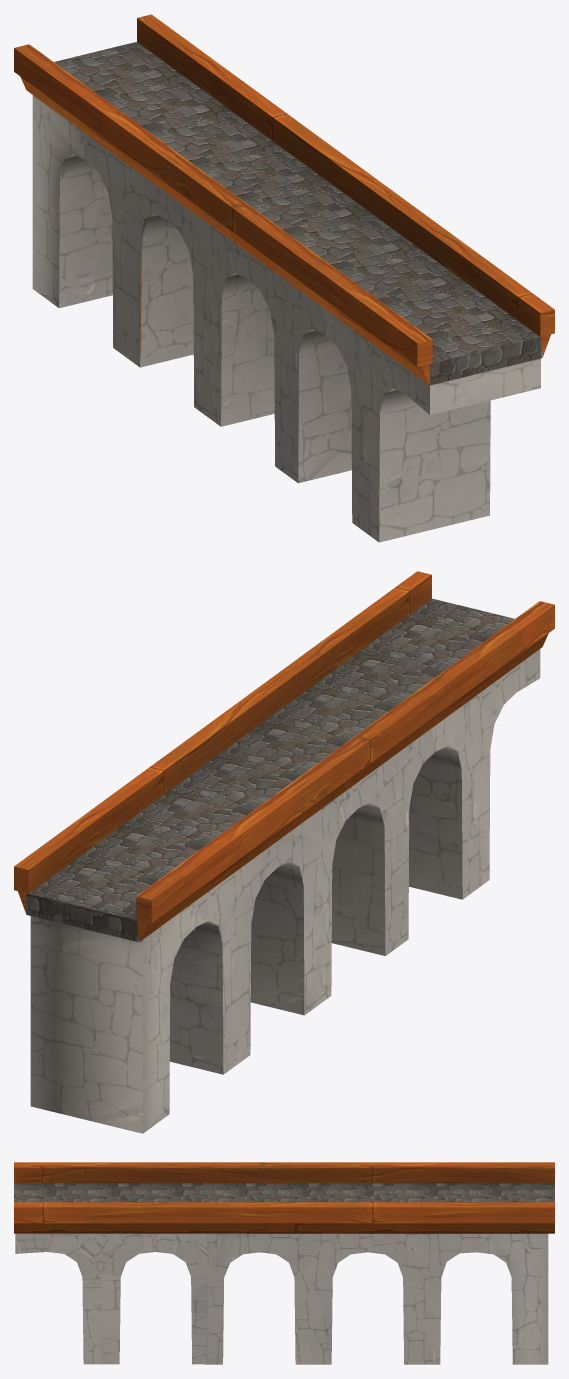
File: Castillo_puente.fbx
3 views of the same model, one above another, from view 1: azimuth 30°, elevation 25°; view 2: azimuth 150°, elevation 25°; view 3: azimuth 270°, elevation 25° (orthographic). The views are drawn at different scales.
Parts seen in each view (by area): view 1: Obj_Puente_castillo; view 2: Obj_Puente_castillo; view 3: Obj_Puente_castillo.
Part boxes in pixels (box(x1,y1,x2,y2)): Obj_Puente_castillo: box(14, 14, 554, 542); Obj_Puente_castillo: box(14, 571, 554, 1133); Obj_Puente_castillo: box(14, 1162, 554, 1364).
Bounding box in the file's own units: 590 × 986 × 2995.
